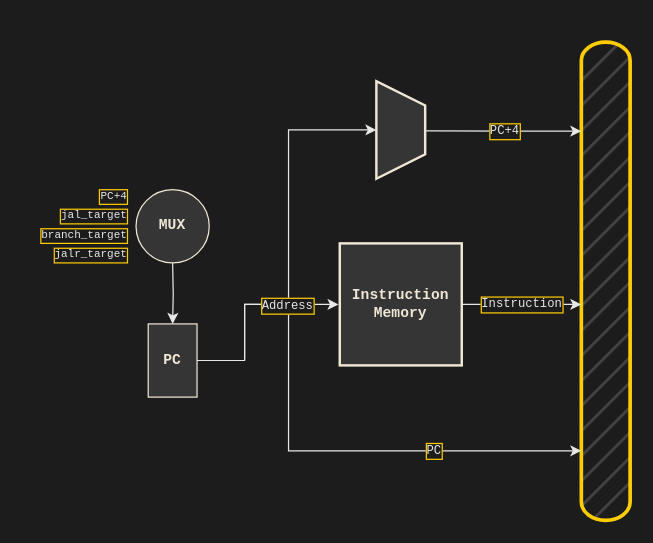
This 653x543 diagram has some shape labels left out. The shapes that lost their labels are listed below. From the top down, each one's centre as x and y in pixels, then its label:
the point at 400,129: Add 4
the point at 605,281: IF/ID
